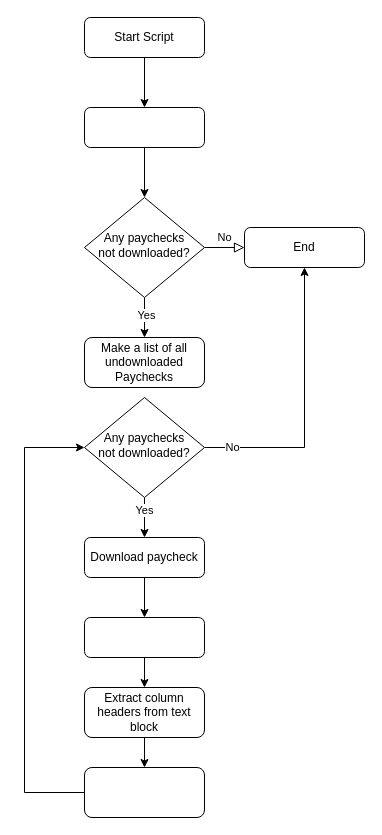
Image size: 382x835. Some labels were removed from this diagram. Each missing label, with the centre of its shape:
"Convert PDF to text block" belongs at pixel 144 637.
"Insert extracted information into Global CSV" belongs at pixel 144 792.
"Scan all on paychecks website" belongs at pixel 144 127.
